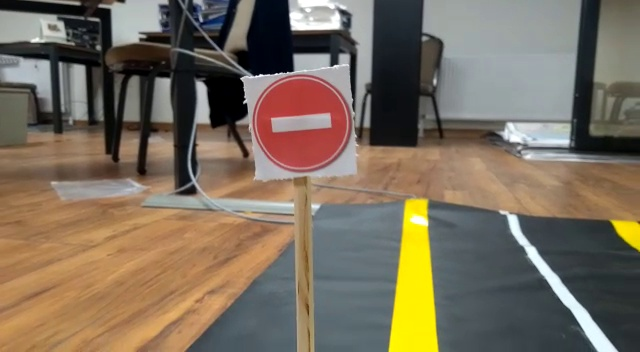girisi_olmayan_yol: (247, 71, 357, 175)
